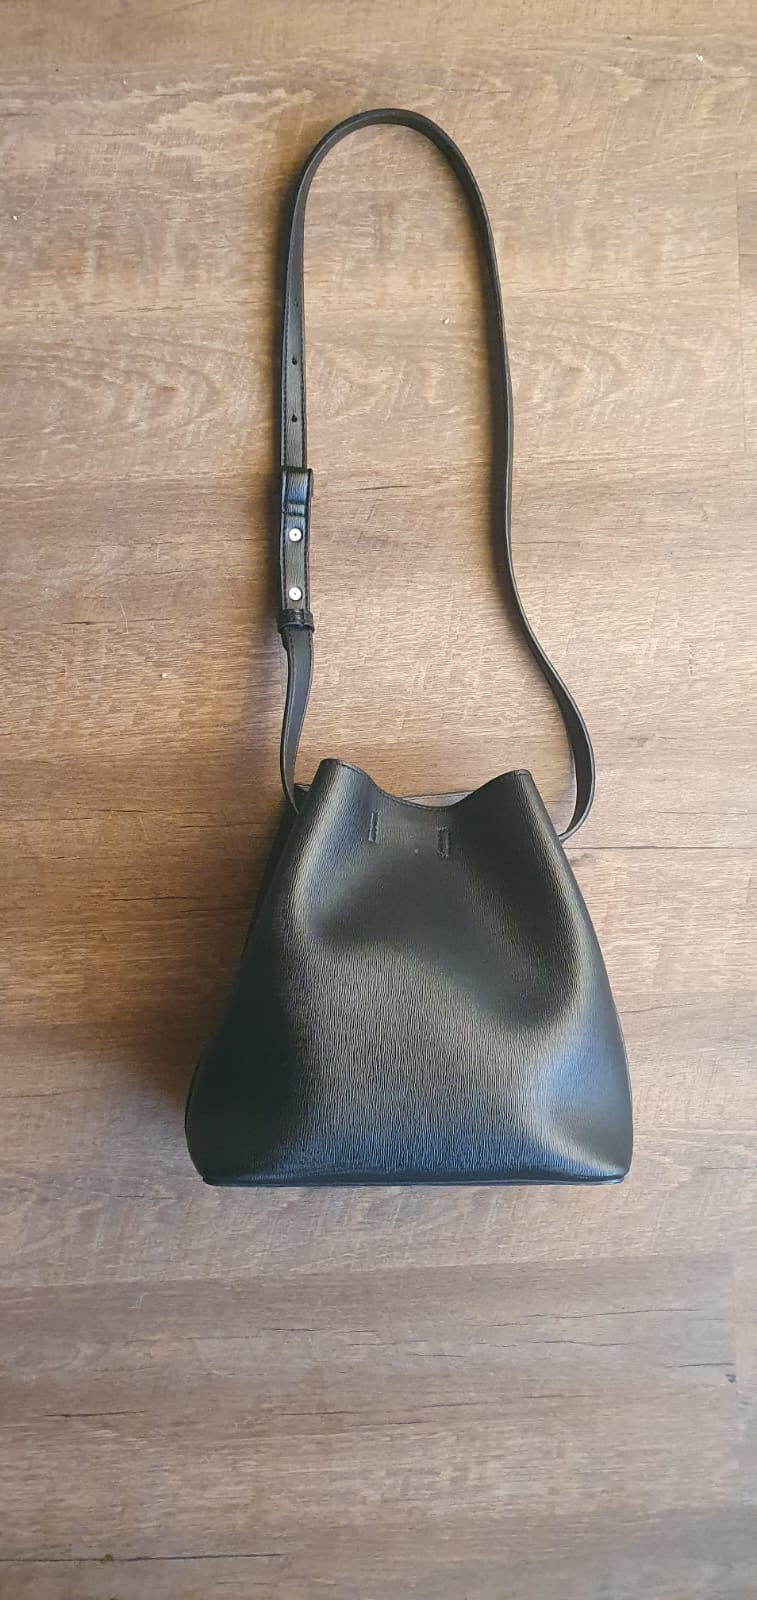cartera: (10, 105, 757, 1197)
cuero: (171, 760, 673, 1189)
